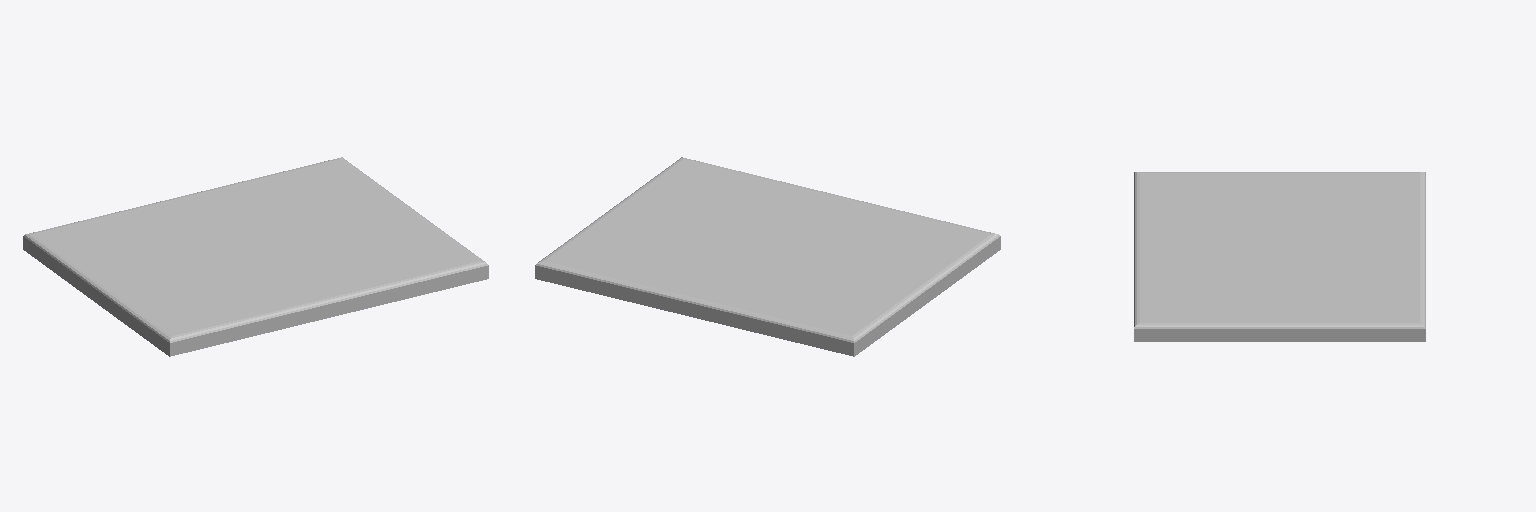
The model's file is original-45.obj.
3 views of the same model, side by side, from view 1: azimuth 30°, elevation 25°; view 2: azimuth 150°, elevation 25°; view 3: azimuth 270°, elevation 25° (orthographic).
Parts seen in each view (by area): view 1: mesh51/mesh51-geometry#mesh51-geometry; view 2: mesh51/mesh51-geometry#mesh51-geometry; view 3: mesh51/mesh51-geometry#mesh51-geometry.
Boxes of the visible parts, x1,y1,x2,y2 form: mesh51/mesh51-geometry#mesh51-geometry: [23, 157, 488, 356]; mesh51/mesh51-geometry#mesh51-geometry: [535, 157, 1000, 356]; mesh51/mesh51-geometry#mesh51-geometry: [1134, 172, 1425, 341].
Bounding box in the file's own units: 0.1116 × 0.0056 × 0.0886.